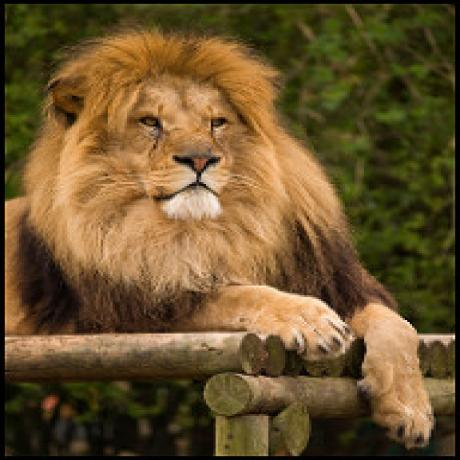Lion: (0, 31, 434, 450)
